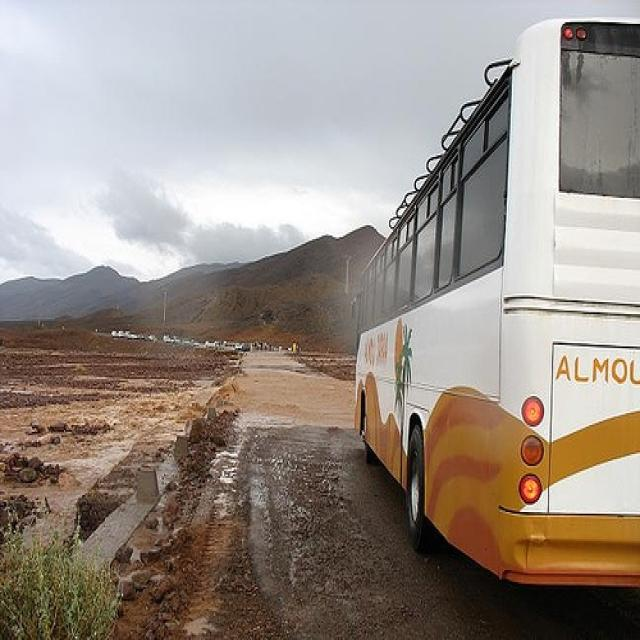bus: (354, 18, 640, 597)
